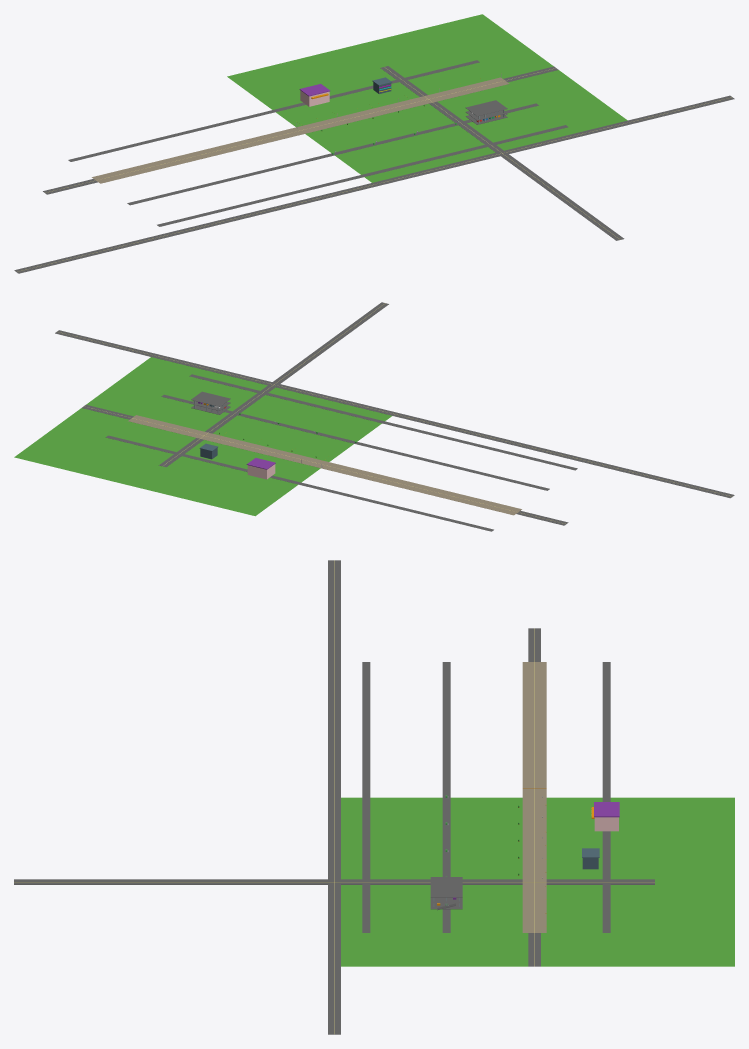
File: sector_r2_c2.glb
3 views of the same model, one above another, from view 1: azimuth 30°, elevation 25°; view 2: azimuth 150°, elevation 25°; view 3: azimuth 270°, elevation 25° (orthographic). The views are drawn at different scales.
Parts seen in each view (by area): view 1: GROUND_r2_c2, ROAD_ShopBlvd, ROAD_District_EW_3, ROAD_District_NS_6, ROAD_Side_14, ROAD_Side_15, ROAD_Side_17, ROAD_District_EW_5; view 2: GROUND_r2_c2, ROAD_ShopBlvd, ROAD_District_EW_3, ROAD_District_NS_6, ROAD_Side_14, ROAD_Side_17, ROAD_Side_15, ROAD_District_EW_5; view 3: GROUND_r2_c2, ROAD_ShopBlvd, ROAD_District_EW_3, ROAD_District_NS_6, ROAD_Side_14, ROAD_Side_15, ROAD_Side_17, ROAD_District_EW_5.
Boxes of the visible parts, left/top/right/bottom form: GROUND_r2_c2: left=227, top=14, right=627, bottom=182; ROAD_ShopBlvd: left=92, top=77, right=509, bottom=183; ROAD_District_EW_3: left=14, top=95, right=734, bottom=273; ROAD_District_NS_6: left=380, top=66, right=624, bottom=240; ROAD_Side_14: left=157, top=125, right=568, bottom=226; ROAD_Side_15: left=127, top=103, right=538, bottom=205; ROAD_Side_17: left=68, top=60, right=479, bottom=161; ROAD_District_EW_5: left=43, top=66, right=558, bottom=194; GROUND_r2_c2: left=14, top=357, right=391, bottom=516; ROAD_ShopBlvd: left=128, top=415, right=521, bottom=515; ROAD_District_EW_3: left=55, top=330, right=734, bottom=498; ROAD_District_NS_6: left=159, top=302, right=388, bottom=467; ROAD_Side_14: left=189, top=374, right=577, bottom=470; ROAD_Side_17: left=105, top=435, right=493, bottom=531; ROAD_Side_15: left=161, top=394, right=549, bottom=490; ROAD_District_EW_5: left=82, top=405, right=568, bottom=525; GROUND_r2_c2: left=341, top=797, right=734, bottom=966; ROAD_ShopBlvd: left=522, top=662, right=546, bottom=932; ROAD_District_EW_3: left=328, top=560, right=340, bottom=1034; ROAD_District_NS_6: left=14, top=879, right=654, bottom=884; ROAD_Side_14: left=362, top=662, right=370, bottom=932; ROAD_Side_15: left=442, top=662, right=450, bottom=932; ROAD_Side_17: left=602, top=662, right=610, bottom=932; ROAD_District_EW_5: left=528, top=628, right=540, bottom=966.
Size of the model in its own units: 700 by 10.6 by 450.
